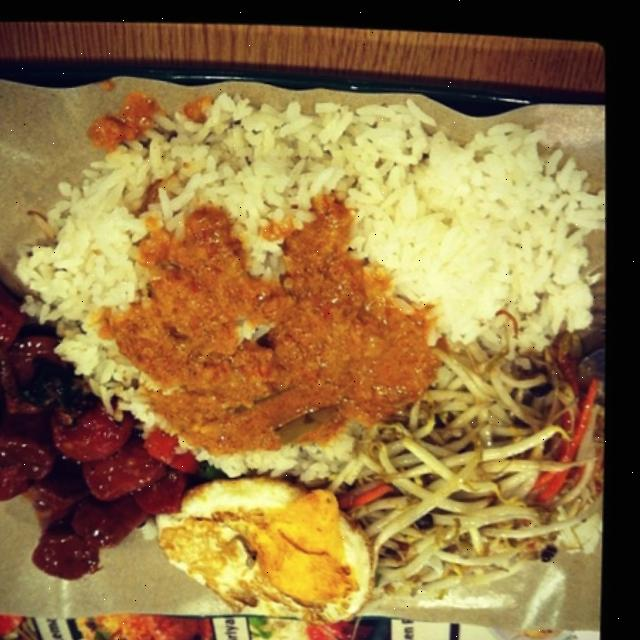米饭主食: (0, 32, 621, 640)
